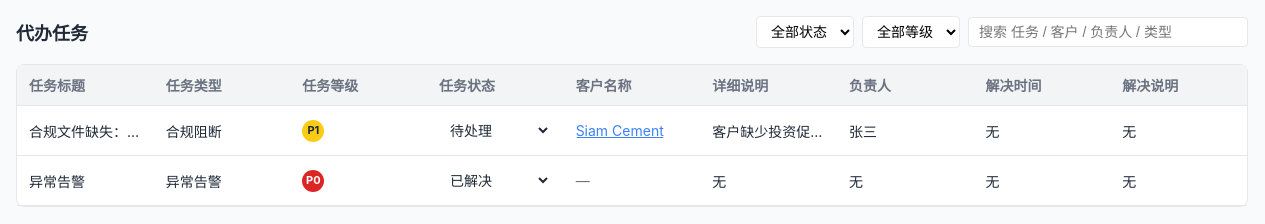
Test: TaskList › filters tasks by title via search input
Expected: the button "Siam Cement" is shown, x1=576 y1=122 x2=664 y2=139
Type "合规" into the search field with test id "search-input" at (1108, 32), box x1=968 y1=17 x2=1248 y2=47
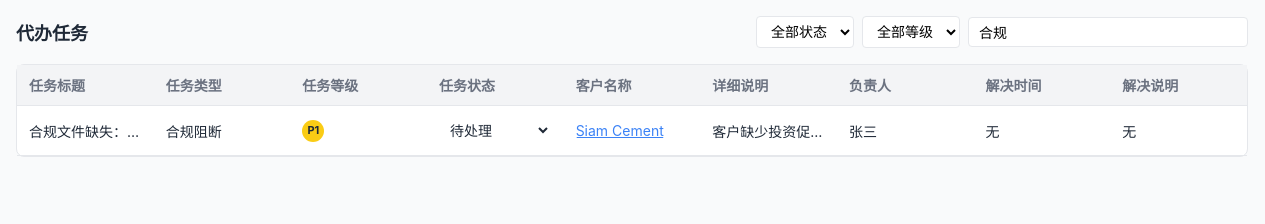
Expected: the text "合规文件缺失：泰国 BOI" is shown, x1=17 y1=106 x2=154 y2=156
Now the text "异常告警" is gone
